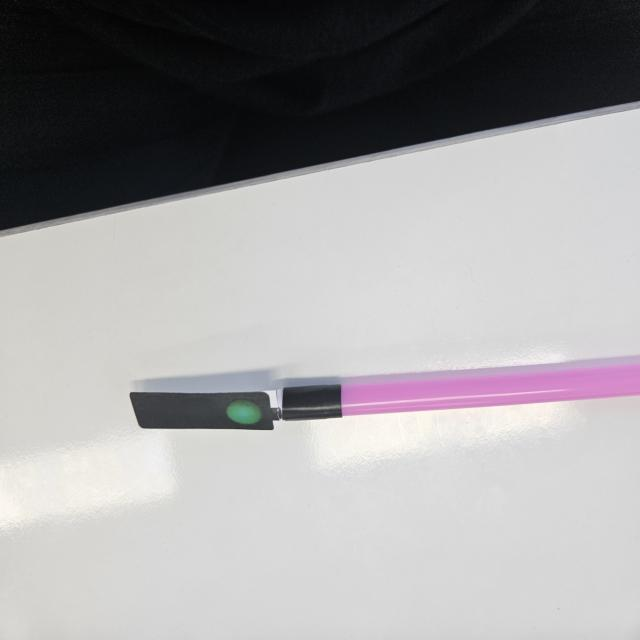traffic light: (129, 392, 279, 433)
